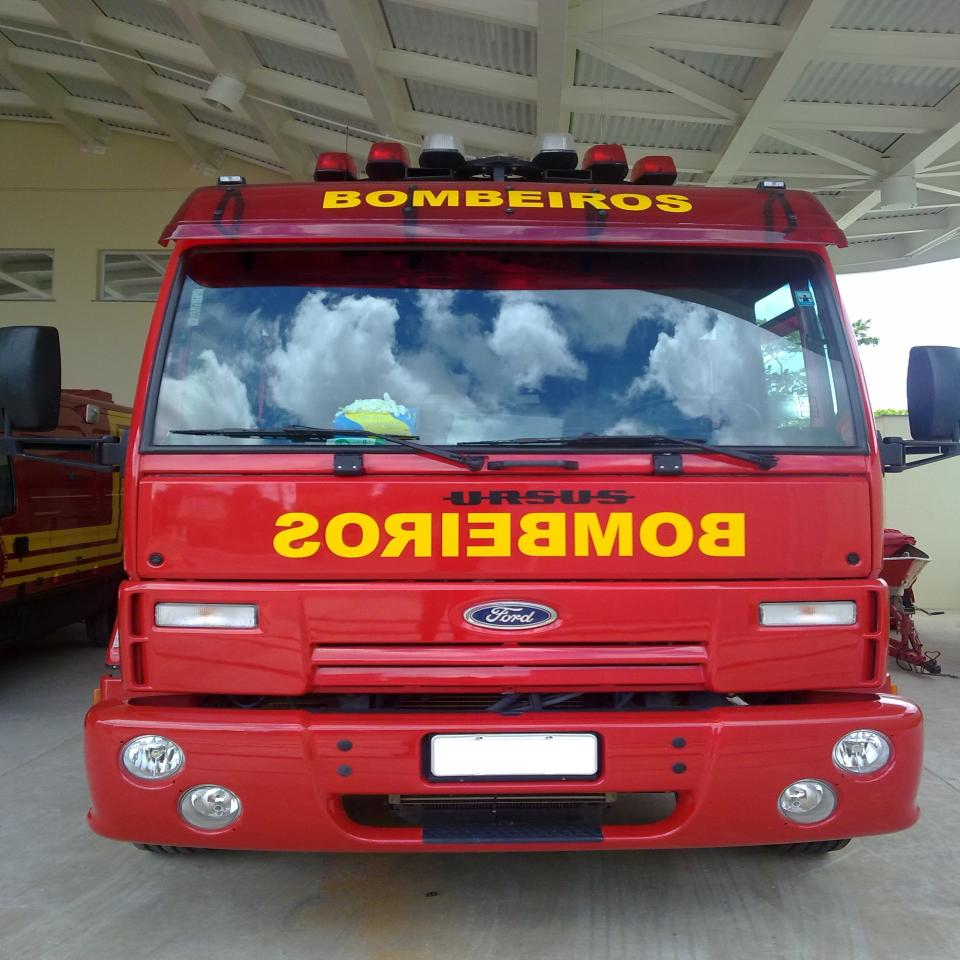viatura: (77, 137, 929, 868)
